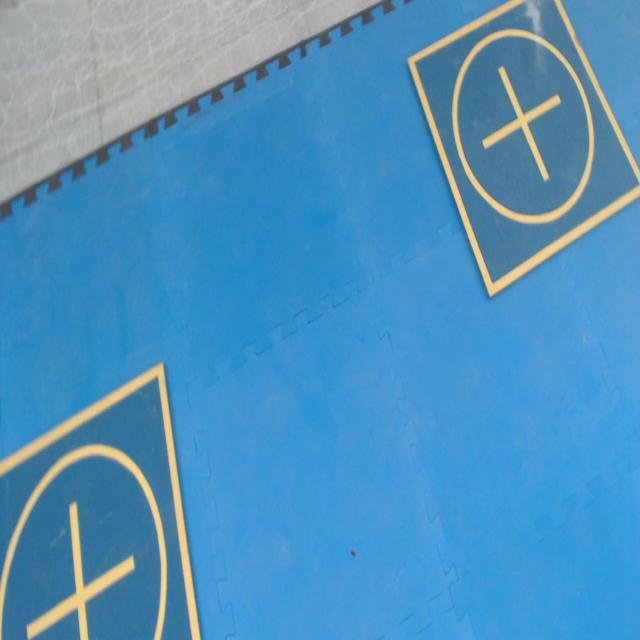base_pouso: (408, 0, 640, 304), (0, 360, 205, 639)
